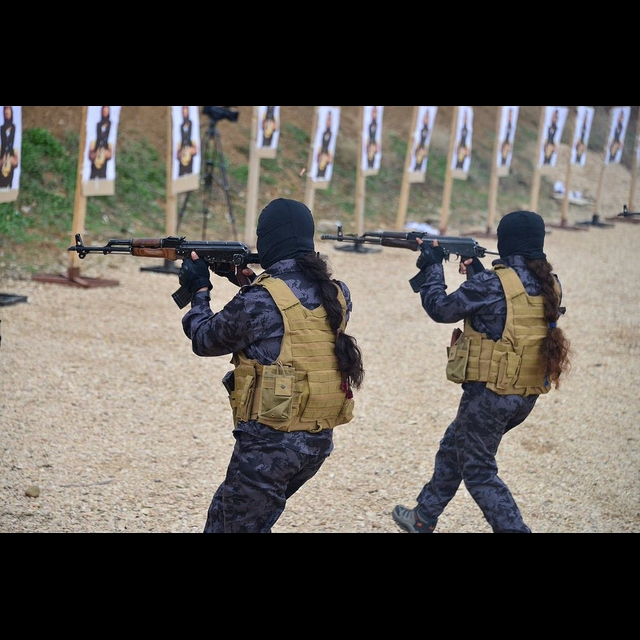AK47: (63, 221, 253, 310), (319, 211, 486, 273)
